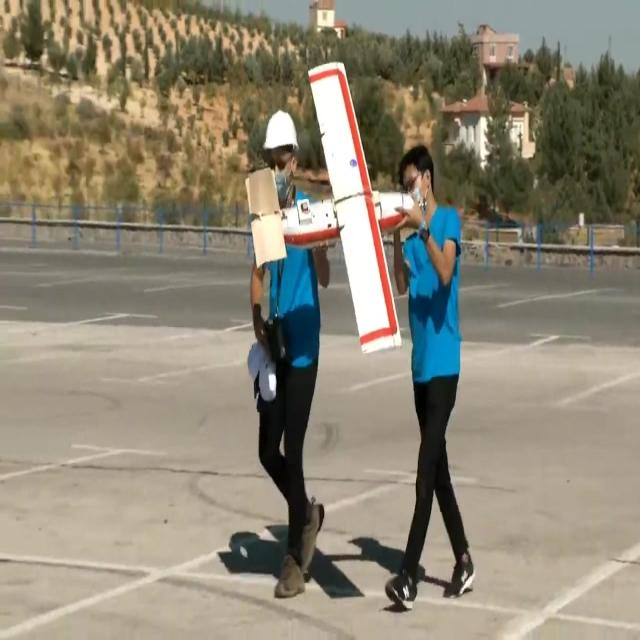iha: (243, 56, 426, 359)
